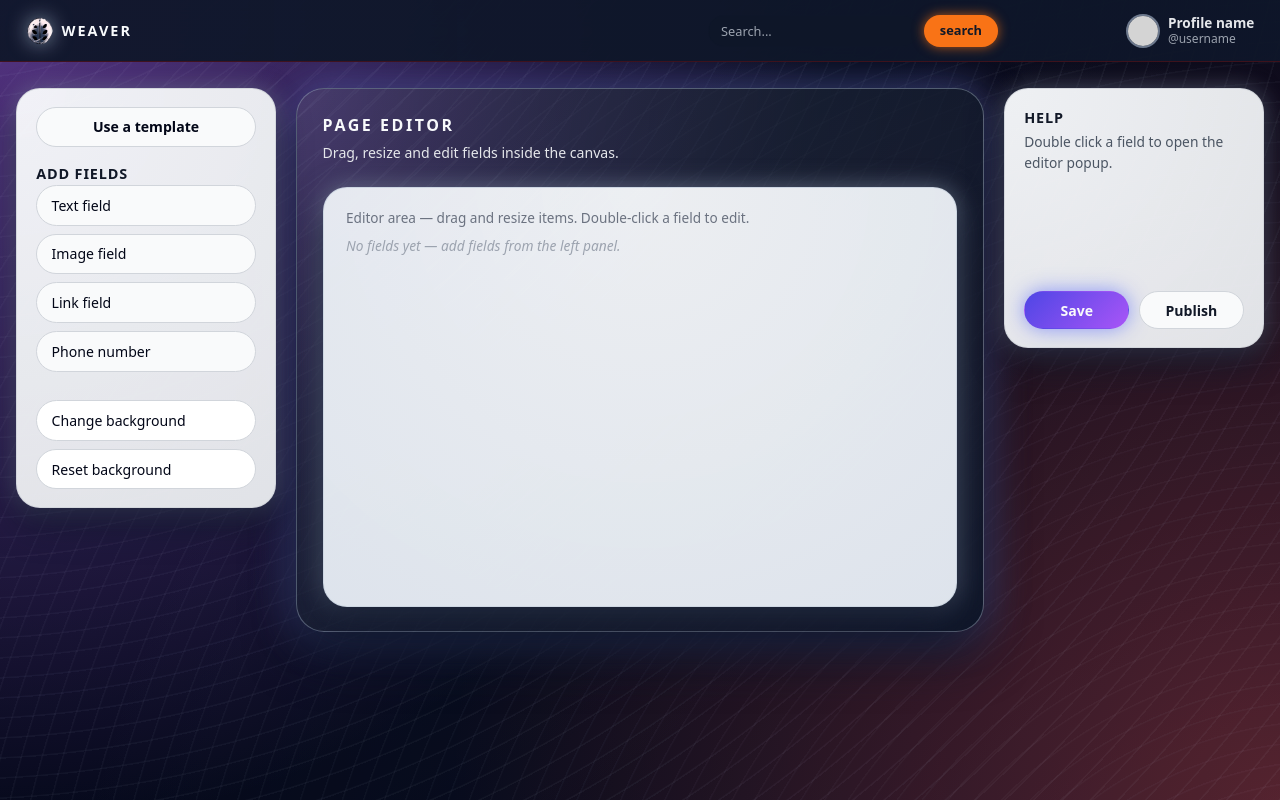
it: PersonalPage (integration) › añade un Text field, abre modal, edita y guarda el contenido
The width and height of the screenshot is (1280, 800).
// click en el botón "Text field" del panel izquierdo
Click the button "Text field": [146, 205] box [36,185,256,226]
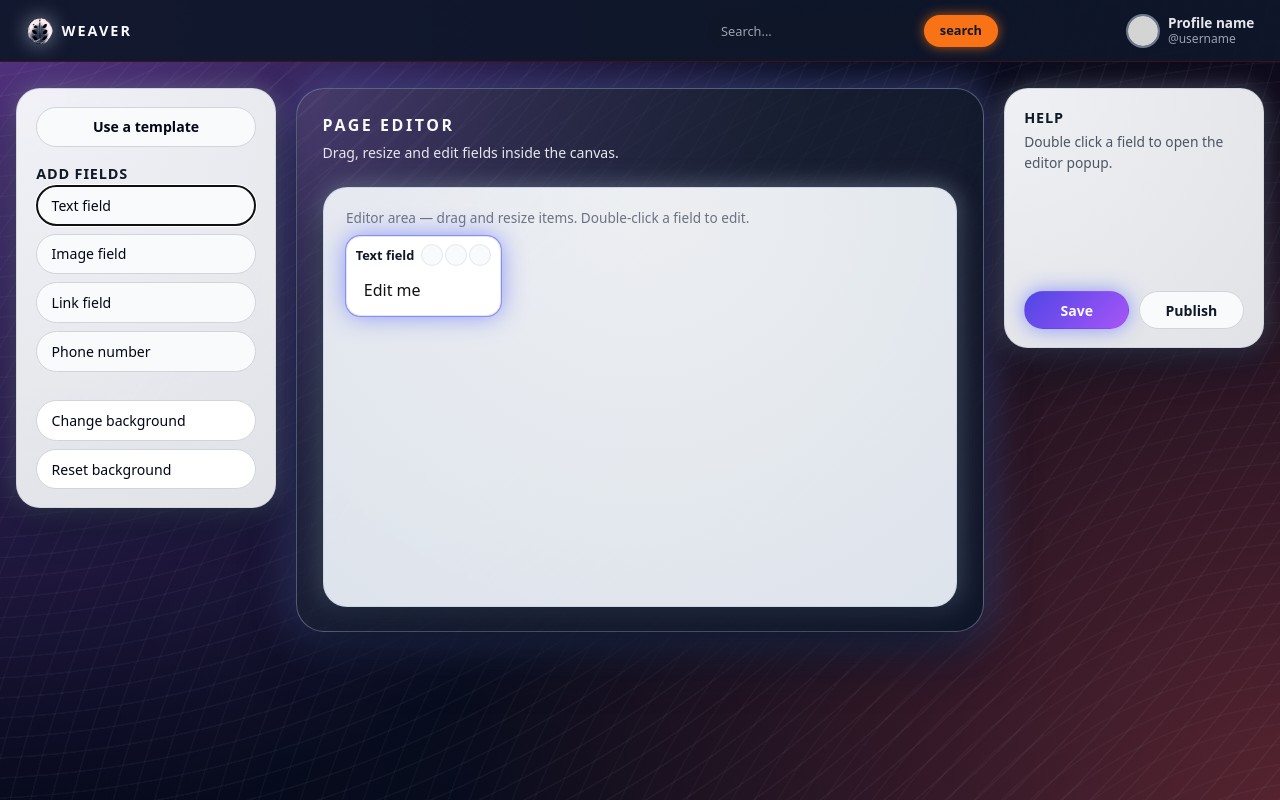
Expected: the button "Edit me" is shown
// doble click → se abre el modal del editor
Double-click the button "Edit me": [392, 290] box [364,279,421,301]
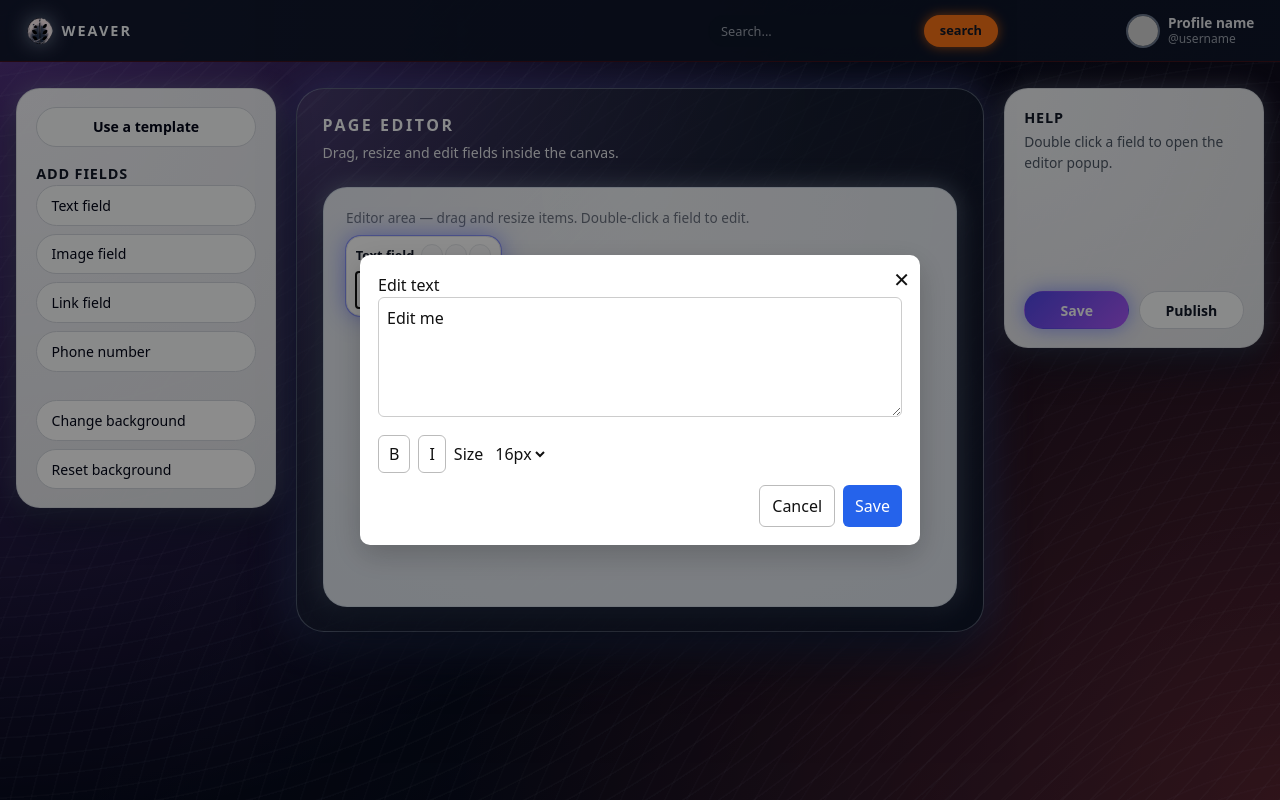
Expected: the text box is shown
// editar el contenido y guardar
Replace the text in the text box with "Texto desde integration test": [640, 357] box [378,297,902,417]
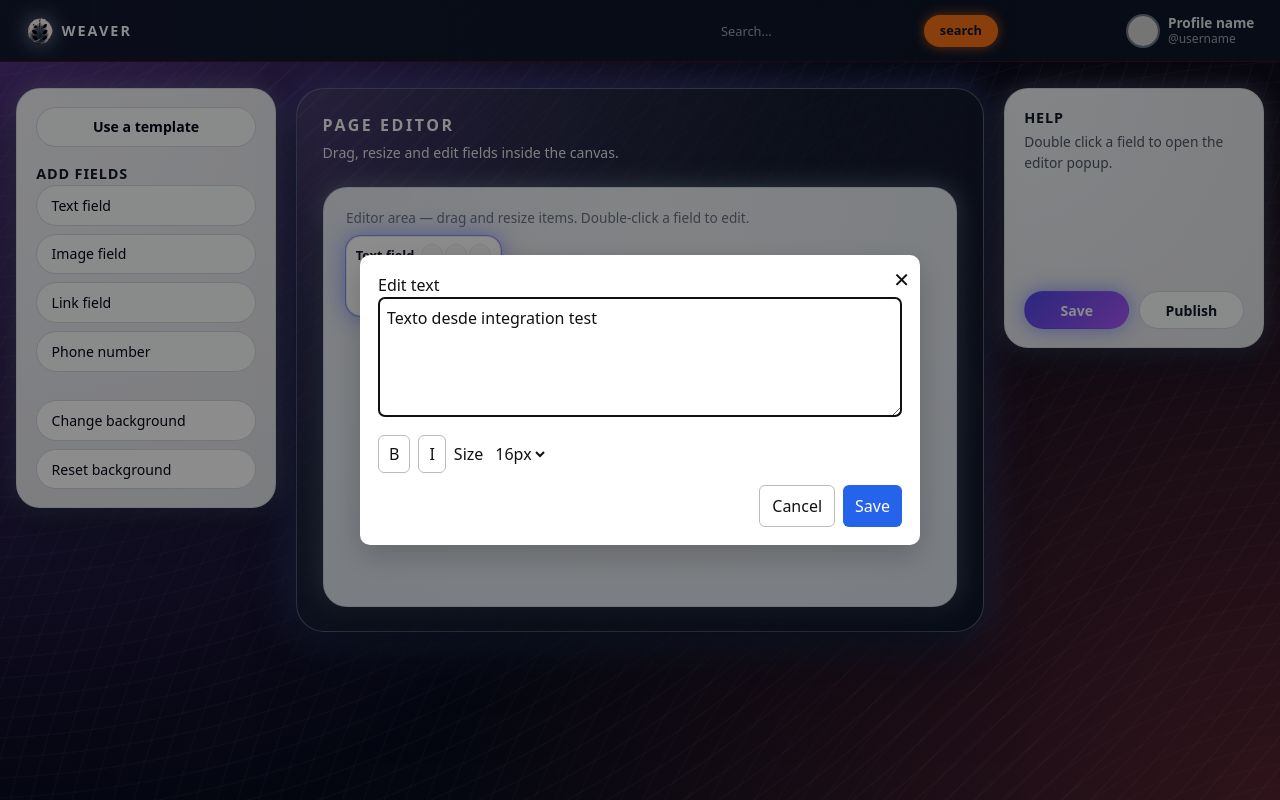
// buscamos el botón Save dentro del dialog también (más robusto)
Click the button "Save": [873, 506] box [843,485,902,527]
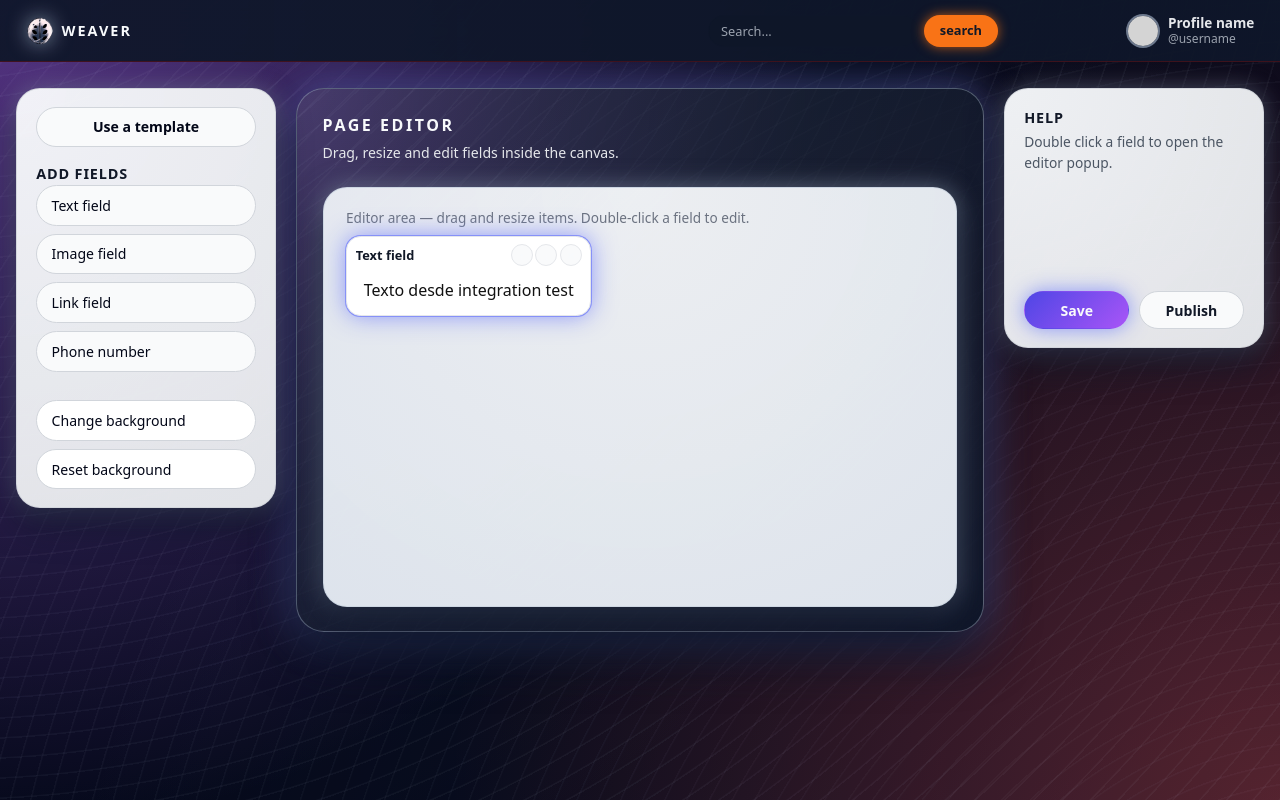
Expected: the button "Texto desde integration test" is shown, [356,272,582,308]
